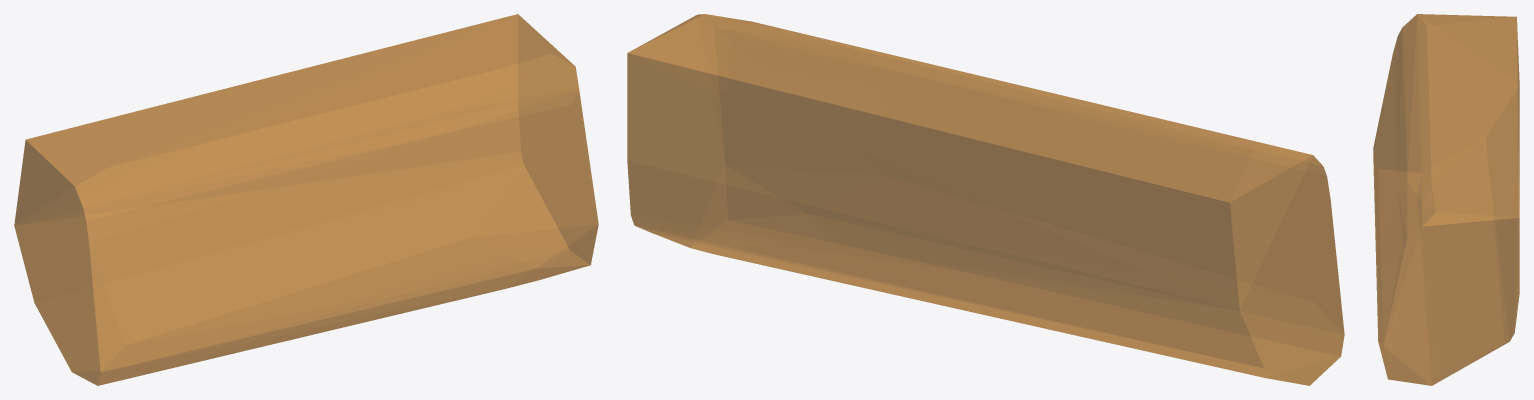
The picture shows the model from 3 angles, left to right: view 1: azimuth 30°, elevation 25°; view 2: azimuth 150°, elevation 25°; view 3: azimuth 270°, elevation 25°; orthographic projection. The views are drawn at different scales.
Visible parts, largest first — view 1: Shape_IndexedFaceSet.011_Shape_IndexedFaceSet.9146; view 2: Shape_IndexedFaceSet.011_Shape_IndexedFaceSet.9146; view 3: Shape_IndexedFaceSet.011_Shape_IndexedFaceSet.9146.
Part boxes in pixels (x1,y1,x2,y2): Shape_IndexedFaceSet.011_Shape_IndexedFaceSet.9146: [14, 14, 598, 385]; Shape_IndexedFaceSet.011_Shape_IndexedFaceSet.9146: [627, 14, 1344, 385]; Shape_IndexedFaceSet.011_Shape_IndexedFaceSet.9146: [1373, 14, 1519, 385].
Size of the model in its own units: 0.2712 by 0.102 by 0.0806.
